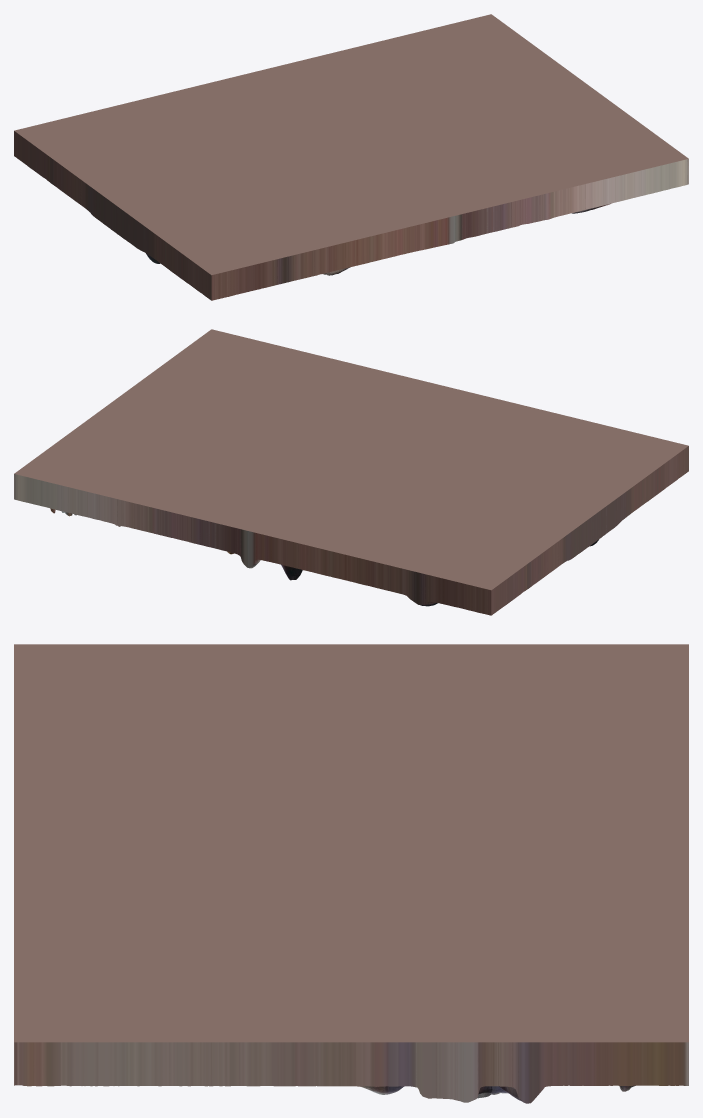
The model's file is harlequins-carnival.glb.
3 renders of one model, top to bottom at view 1: azimuth 30°, elevation 25°; view 2: azimuth 150°, elevation 25°; view 3: azimuth 270°, elevation 25°, orthographic. The views are drawn at different scales.
Visible parts, largest first — view 1: Joan Miró, The Harlequin’s Carnival.stl; view 2: Joan Miró, The Harlequin’s Carnival.stl; view 3: Joan Miró, The Harlequin’s Carnival.stl.
Boxes of the visible parts, x1,y1,x2,y2 form: Joan Miró, The Harlequin’s Carnival.stl: (14,14,688,300); Joan Miró, The Harlequin’s Carnival.stl: (14,329,688,615); Joan Miró, The Harlequin’s Carnival.stl: (14,644,688,1103).
Bounding box in the file's own units: 100 × 10.99 × 71.68.
Materials: 1 (1 with a texture image).
